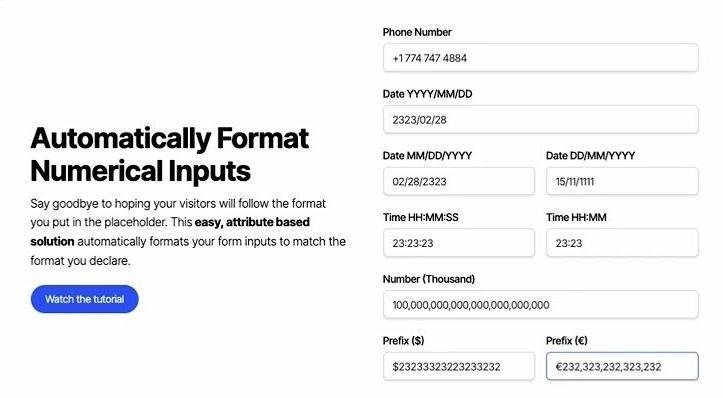button: (32, 285, 141, 316)
input: (385, 106, 700, 136), (384, 45, 700, 74), (386, 293, 700, 319), (546, 167, 700, 197), (384, 229, 537, 258), (384, 354, 537, 383), (548, 230, 700, 259), (385, 170, 537, 197), (548, 354, 700, 381)
label: (382, 149, 479, 167), (384, 272, 478, 289), (384, 86, 475, 103), (382, 208, 461, 227), (382, 26, 460, 42), (546, 151, 638, 164), (540, 335, 600, 352), (378, 332, 430, 351), (547, 212, 611, 227)
